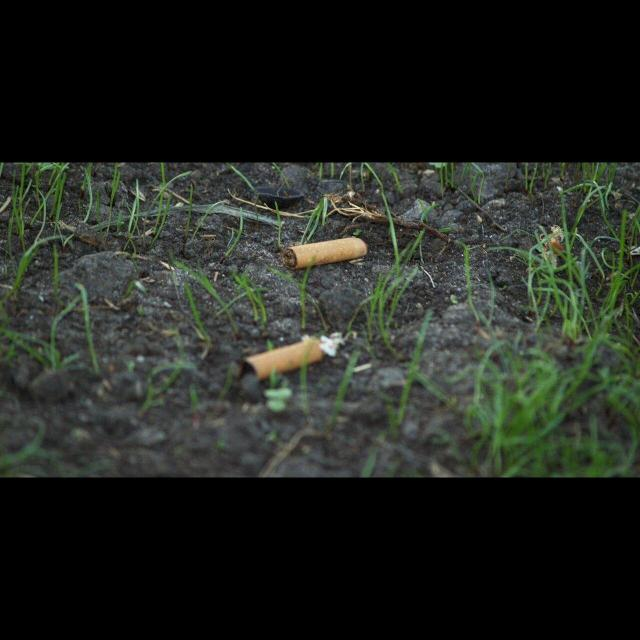cigarette: (244, 338, 324, 380), (282, 238, 369, 269)
